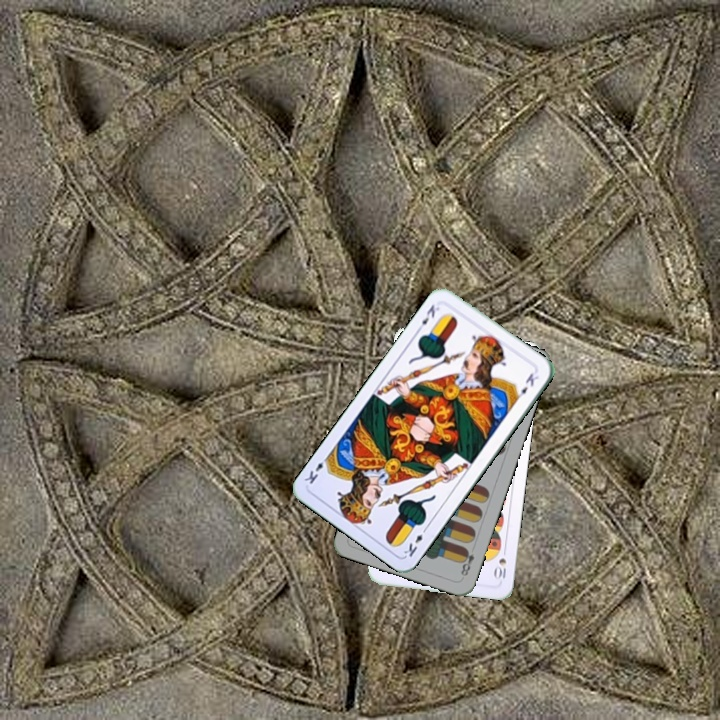E8: (457, 544, 477, 581)
EK: (400, 523, 430, 559), (415, 298, 444, 334)
S10: (491, 543, 509, 582)
